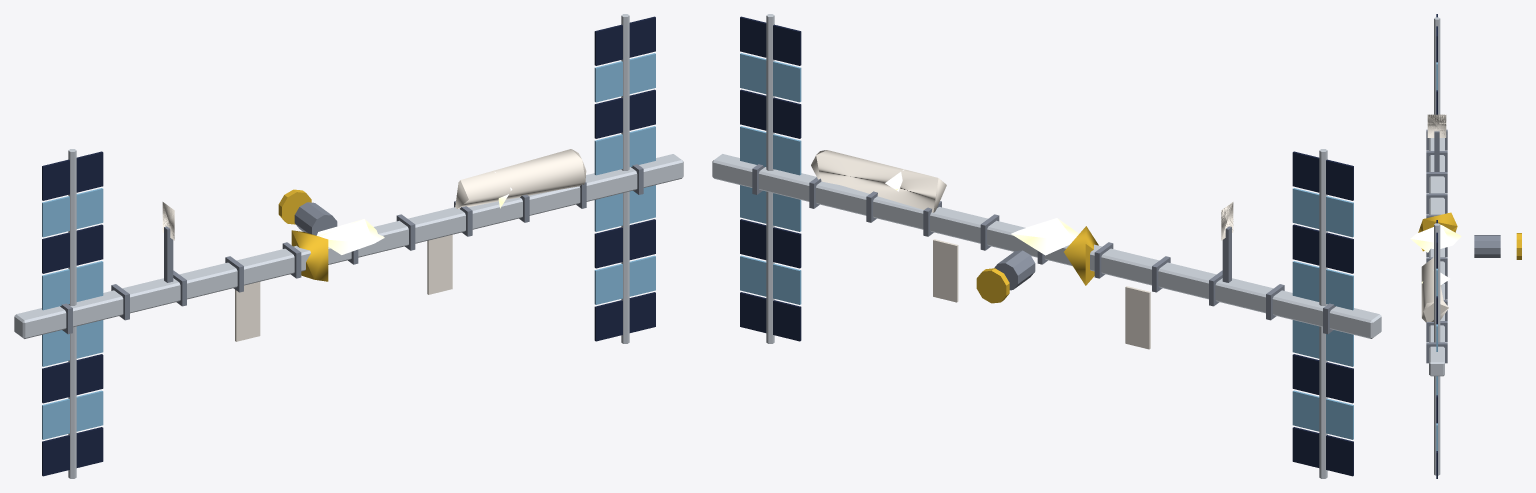
Rendered from space_station.glb.
The picture shows the model from 3 angles, left to right: view 1: azimuth 30°, elevation 25°; view 2: azimuth 150°, elevation 25°; view 3: azimuth 270°, elevation 25°; orthographic projection. The views are drawn at different scales.
Visible parts, largest first — view 1: space_station; view 2: space_station; view 3: space_station.
Boxes of the visible parts, left/top/right/bottom form: space_station: left=14, top=14, right=683, bottom=478; space_station: left=712, top=14, right=1381, bottom=478; space_station: left=1410, top=14, right=1521, bottom=478.
Size of the model in its own units: 110 by 52 by 21.1.
Materials: 1 (1 with a texture image).
